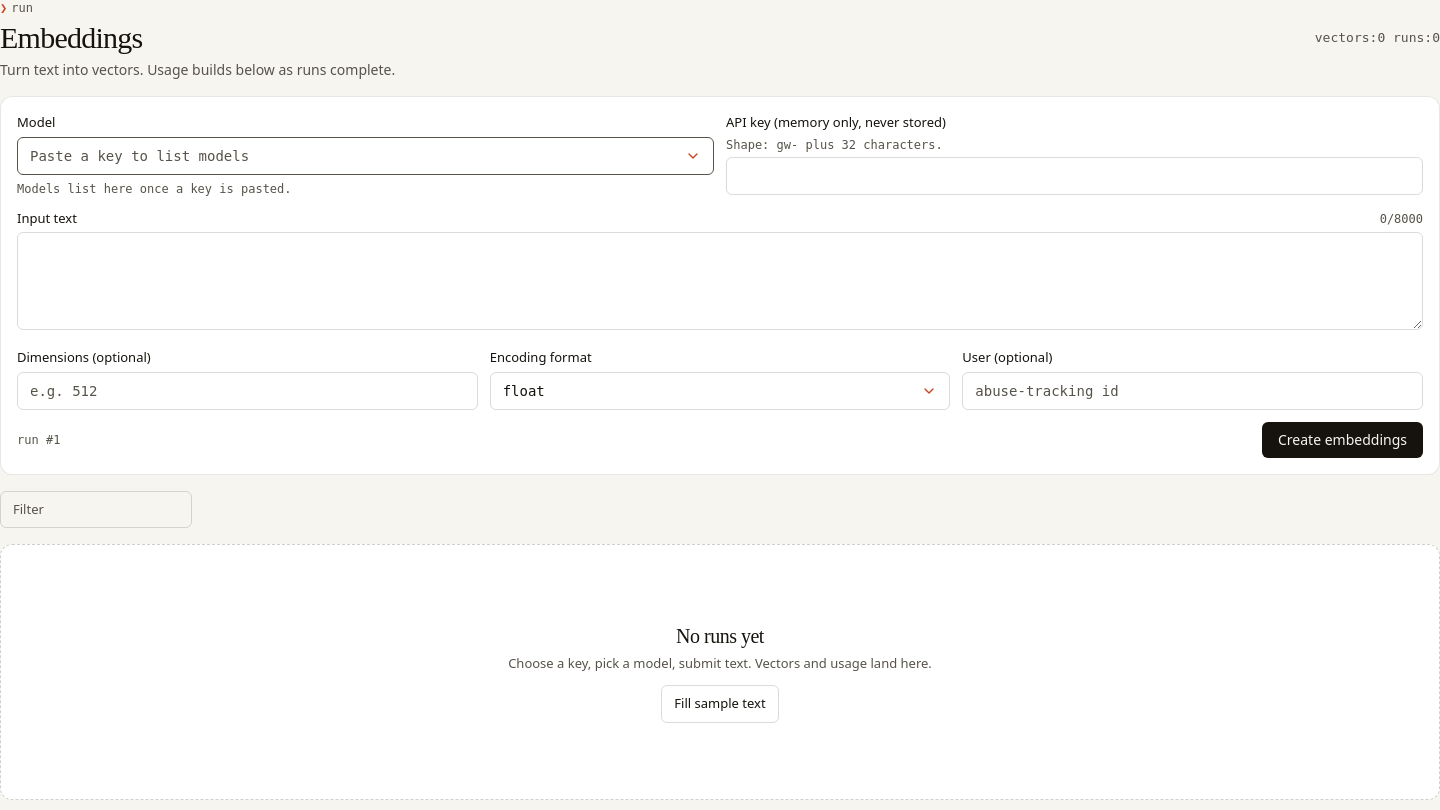
Test case: EmbeddingsPage › validates empty input before submitting
Click the button "Create embeddings" at (1342, 440), box [1262, 422, 1423, 458]
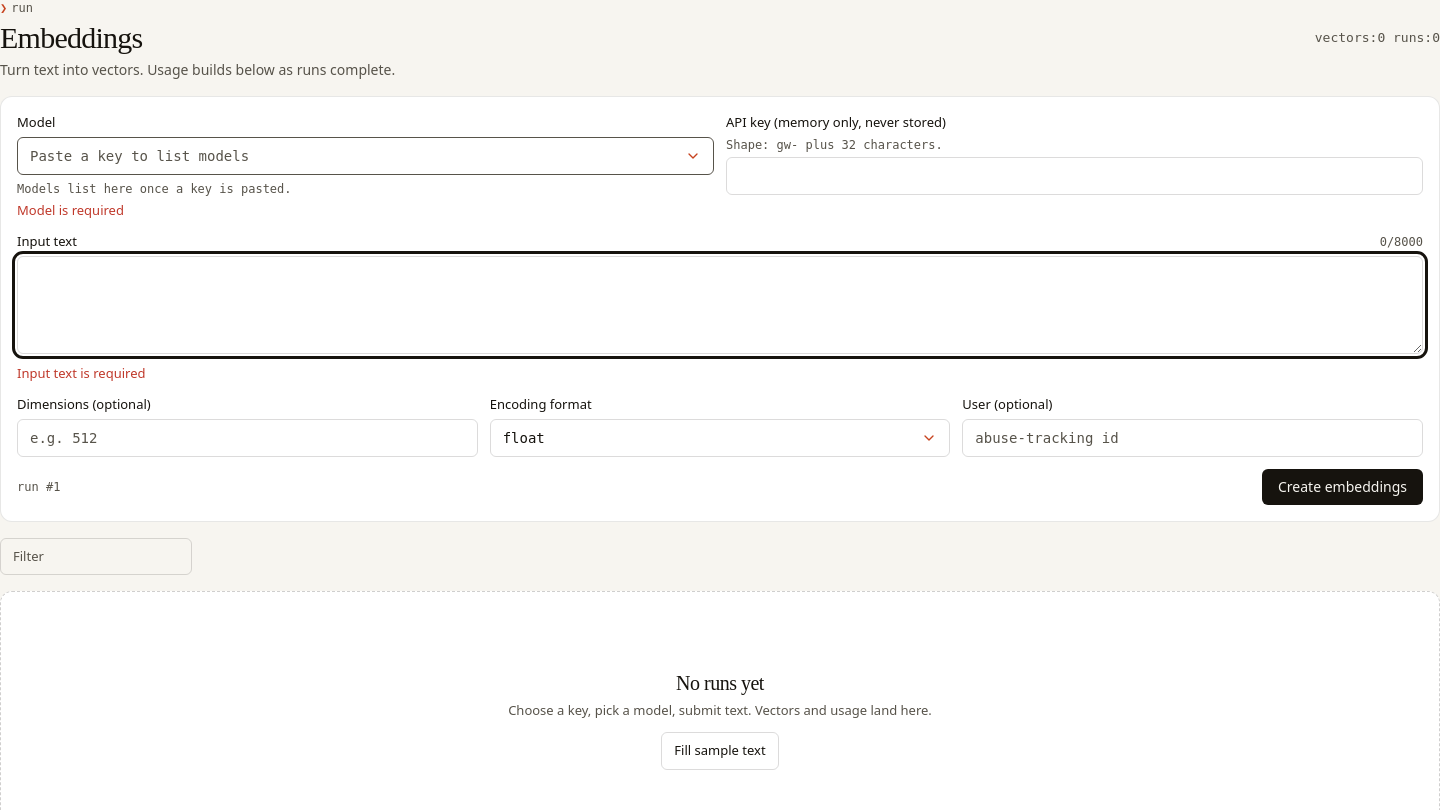
Result: the text "Input text is required" is shown at [17, 364, 146, 382]
Result: the text "Model is required" is shown at [17, 200, 124, 218]
